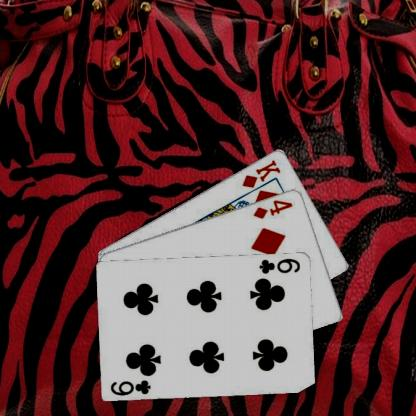4D: (250, 197, 294, 220)
6C: (257, 255, 302, 275), (108, 377, 152, 396)
KD: (239, 157, 282, 189)
